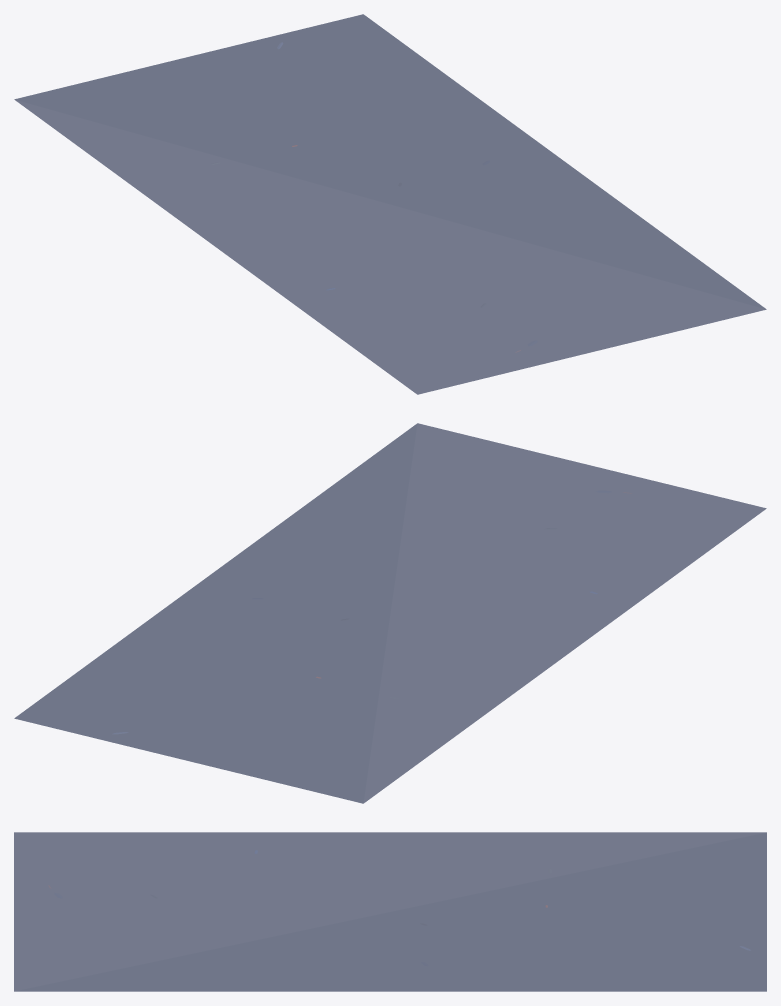
Rendered from ART_MoatRoadSurface.lod.glb.
The picture shows the model from 3 angles, top to bottom: view 1: azimuth 30°, elevation 25°; view 2: azimuth 150°, elevation 25°; view 3: azimuth 270°, elevation 25°; orthographic projection. The views are drawn at different scales.
Visible parts, largest first — view 1: ART_MoatRoadSurface; view 2: ART_MoatRoadSurface; view 3: ART_MoatRoadSurface.
Boxes of the visible parts, left/top/right/bottom form: ART_MoatRoadSurface: left=14, top=14, right=766, bottom=394; ART_MoatRoadSurface: left=14, top=423, right=766, bottom=803; ART_MoatRoadSurface: left=14, top=832, right=766, bottom=991.
Bounding box in the file's own units: 10 × 0.0065 × 20.
